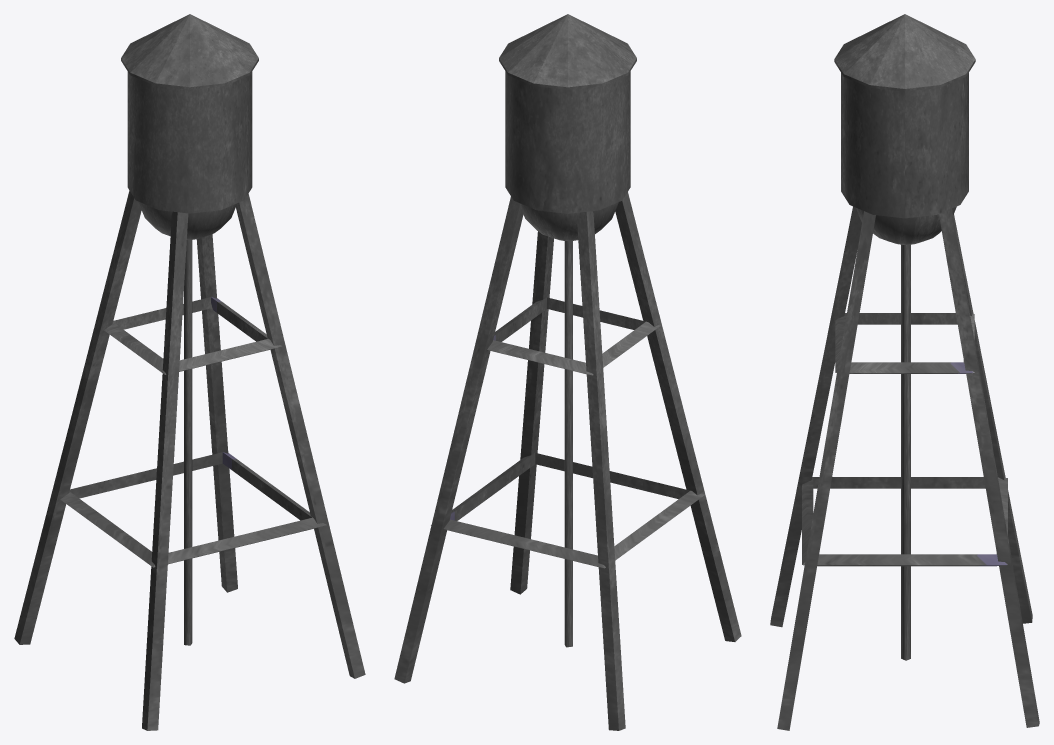
Rendered from water_tower.dae.
3 renders of one model, left to right at view 1: azimuth 30°, elevation 25°; view 2: azimuth 150°, elevation 25°; view 3: azimuth 270°, elevation 25°, orthographic. The views are drawn at different scales.
Parts seen in each view (by area): view 1: water tower; view 2: water tower; view 3: water tower.
Boxes of the visible parts, x1,y1,x2,y2 form: water tower: (14, 14, 365, 730); water tower: (394, 14, 741, 730); water tower: (770, 14, 1039, 730).
Bounding box in the file's own units: 1.68 × 1.68 × 4.56.
1 material, 1 textured.
